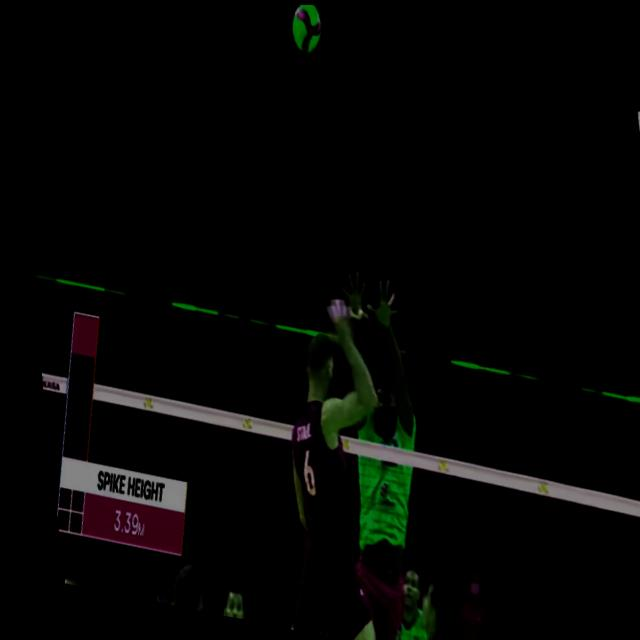player: (265, 265, 458, 640), (230, 289, 425, 640)
